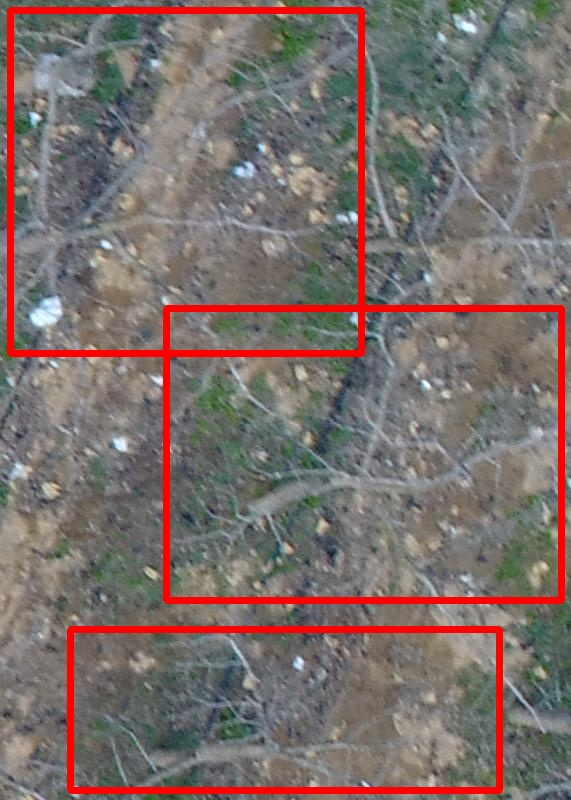apple: (10, 10, 361, 353), (166, 308, 561, 600), (70, 629, 499, 790)
